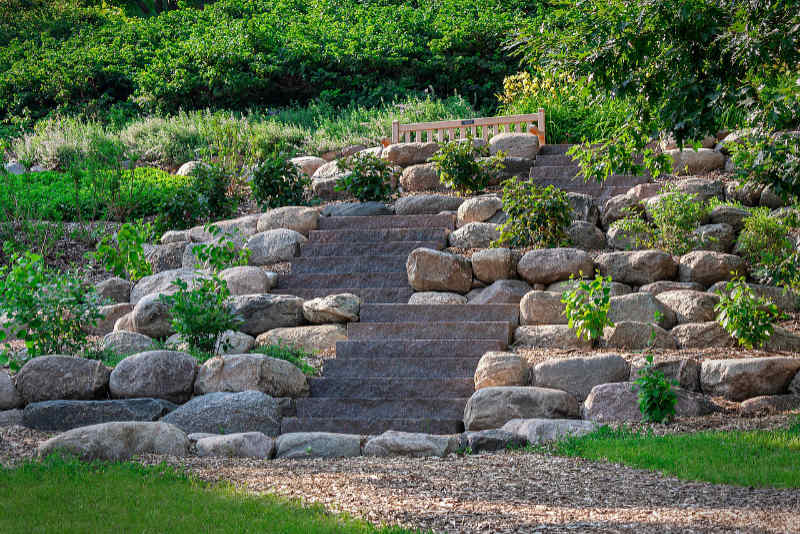grass: (0, 456, 385, 533), (560, 423, 799, 488)
rock: (410, 247, 731, 352), (0, 349, 308, 454), (467, 352, 796, 449), (95, 270, 360, 348), (180, 133, 541, 187), (451, 187, 751, 248), (143, 204, 314, 267)
